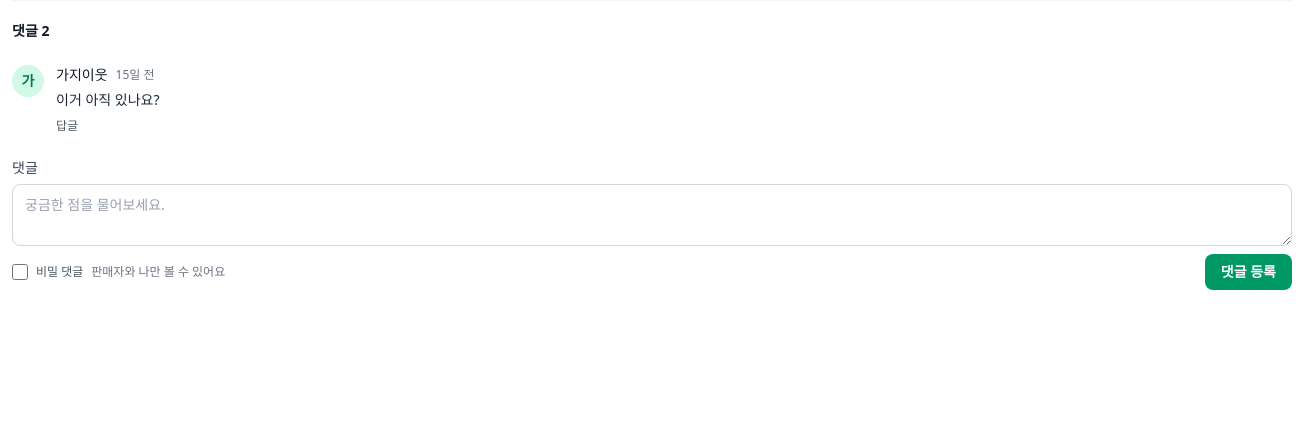
CommentSection › 답글을 쓰면 부모 id와 함께 보내고 부모 밑에 붙는다
The width and height of the screenshot is (1304, 447).
Click the button "답글". click: point(67, 126)
box: x1=56 y1=118 x2=78 y2=134
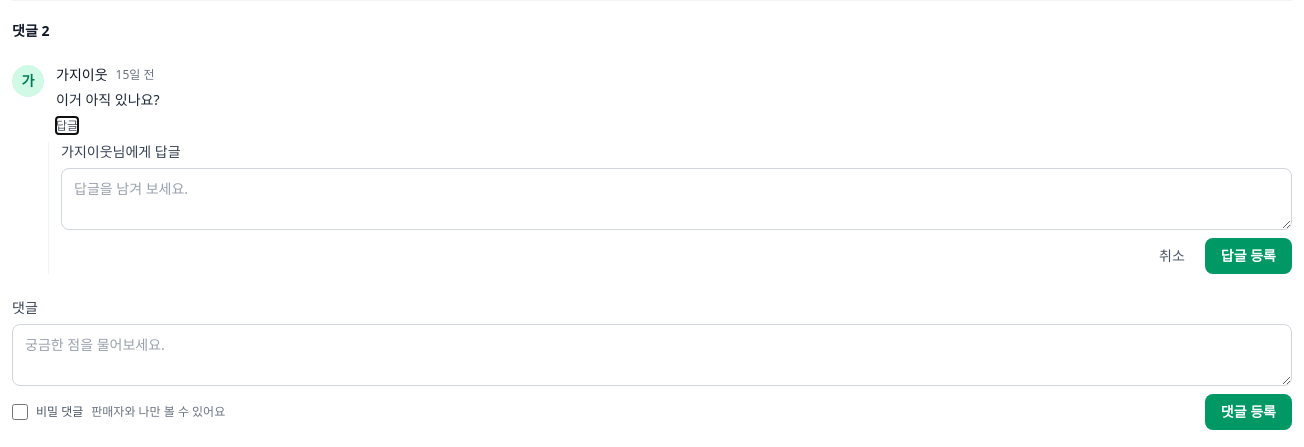
Type "네 있습니다" into the text box labelled "가지이웃님에게 답글". click: point(676, 199)
box: x1=61 y1=168 x2=1292 y2=230
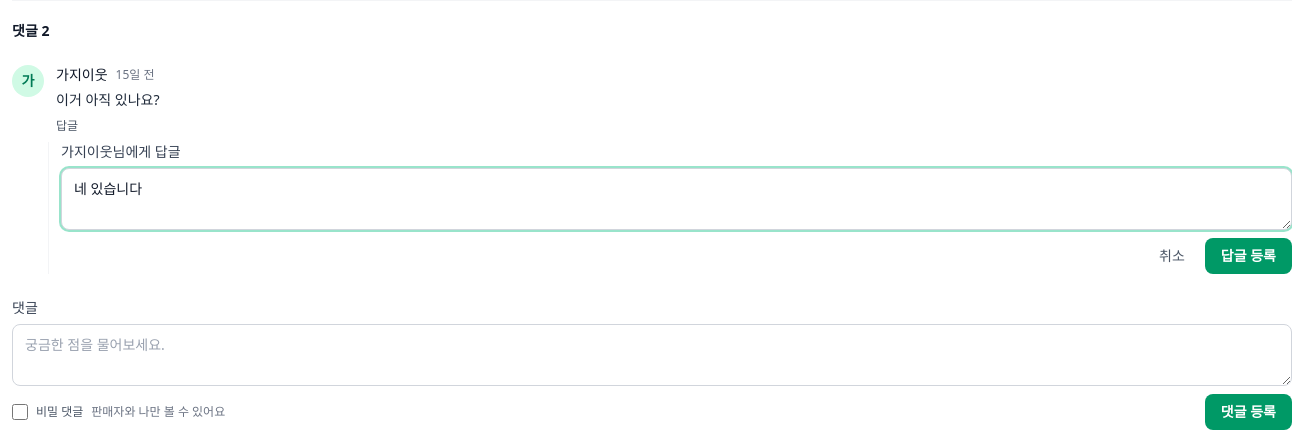
Click the button "답글 등록". click: point(1248, 256)
box: x1=1205 y1=238 x2=1292 y2=274
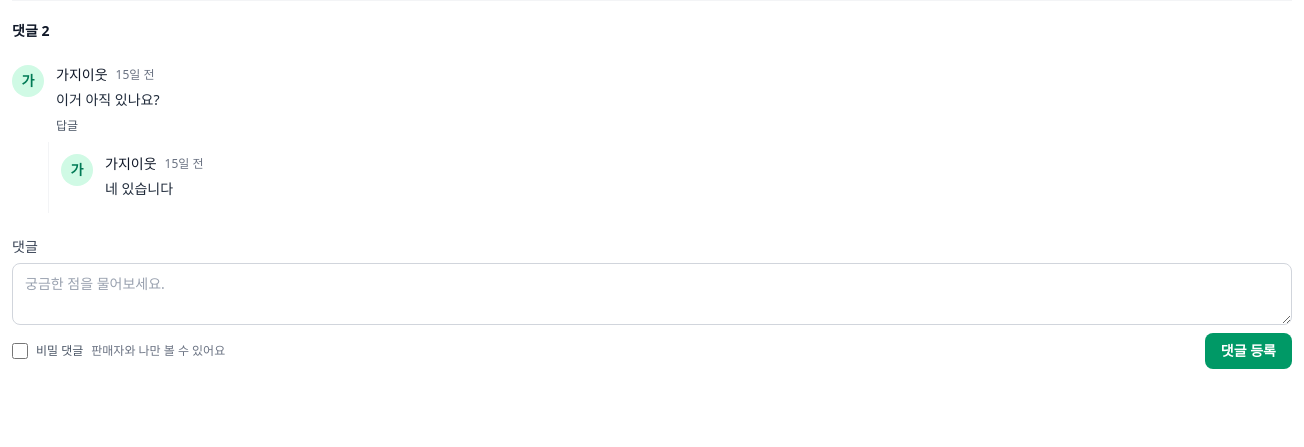
Expected: the text "네 있습니다" is shown, x1=105 y1=179 x2=173 y2=198
Expected: the label labelled "가지이웃님에게 답글" is gone
